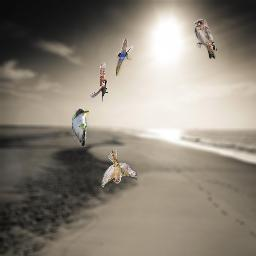Cuckoo: (72, 108, 89, 147)
Sparrow: (101, 150, 137, 190), (90, 62, 108, 102)
Swallow: (194, 19, 217, 59), (116, 39, 133, 76)
